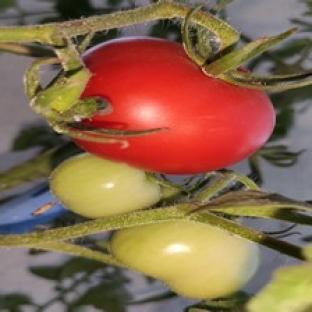Tomato: (74, 38, 275, 174), (111, 221, 260, 299), (51, 154, 161, 218)
